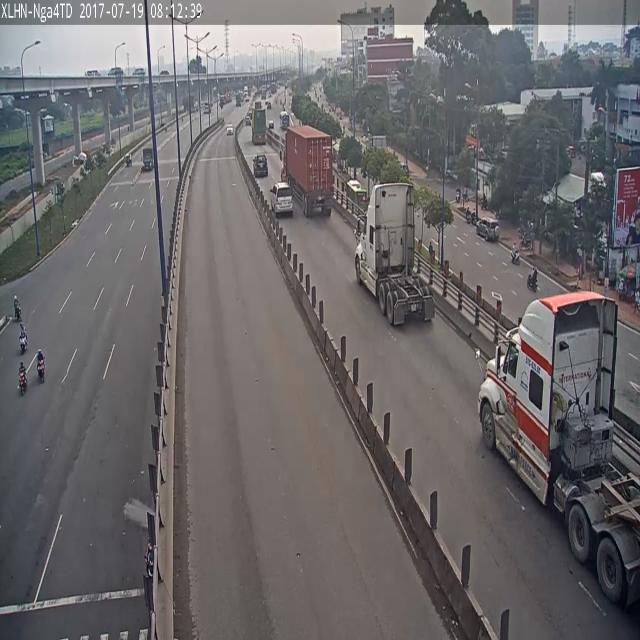car: (18, 361, 28, 395), (36, 349, 45, 381), (527, 267, 538, 292), (19, 323, 28, 353), (14, 295, 22, 321), (510, 245, 520, 264)
traffic-light: (270, 181, 292, 216), (476, 218, 499, 241), (253, 154, 268, 176)
truck: (480, 287, 640, 613), (354, 182, 434, 324), (284, 126, 333, 217), (142, 148, 154, 171)
